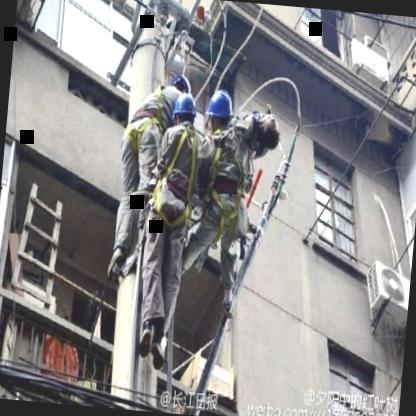helmet: (204, 87, 236, 135), (170, 94, 198, 133), (168, 70, 194, 102)
